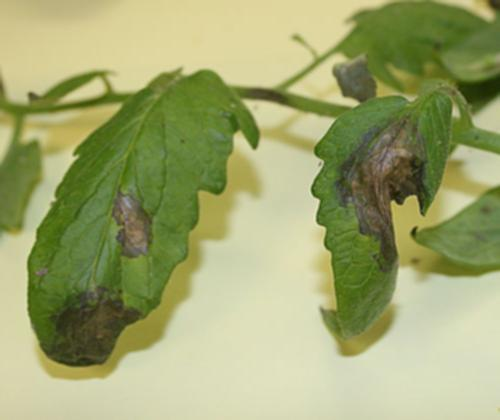Tomato leaf late blight: (26, 40, 264, 372), (298, 87, 459, 352)
